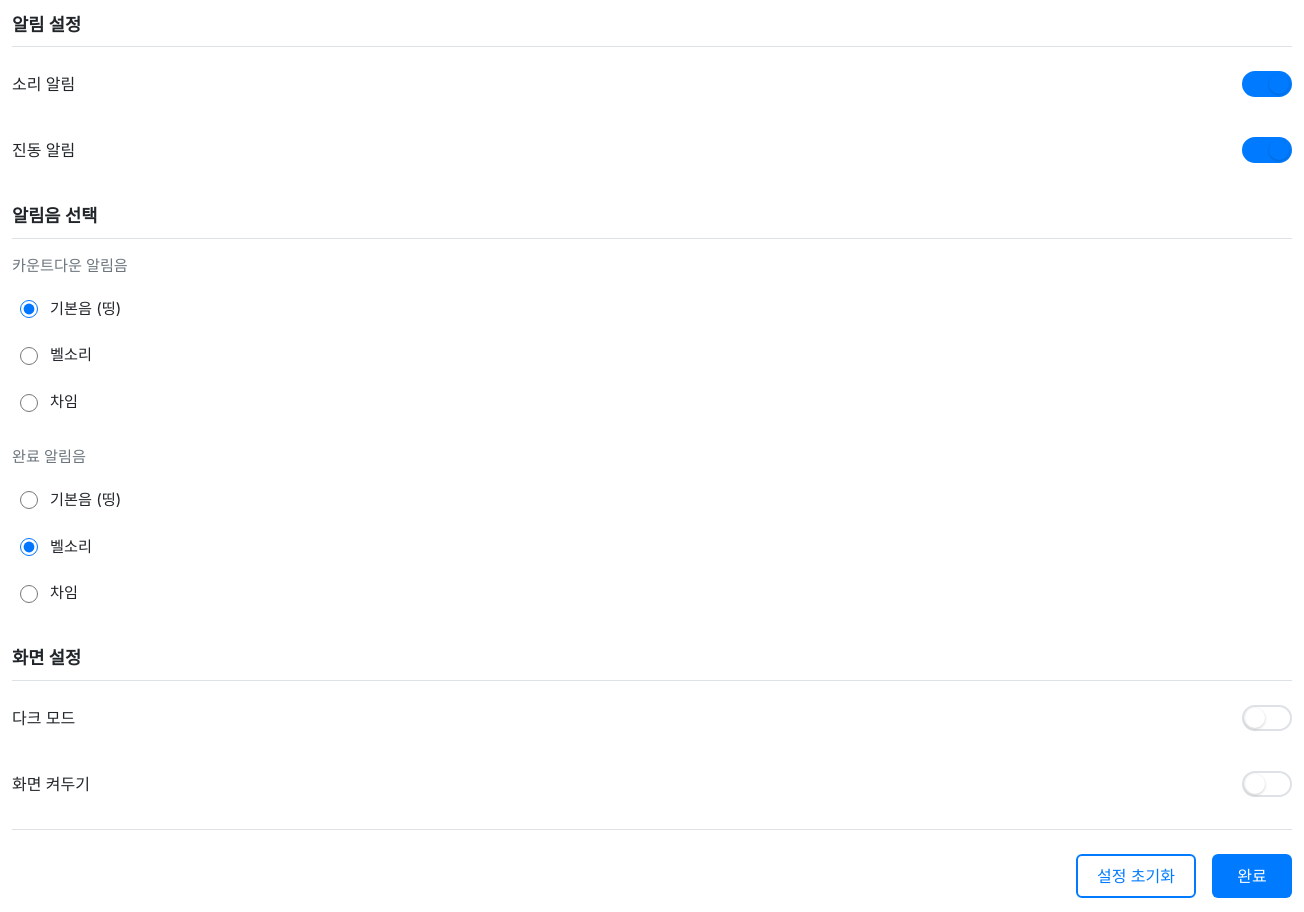
Scenario: Settings Component › toggles sound setting when clicked
The width and height of the screenshot is (1304, 912).
Click the switch named "소리 알림 끄기": click(1267, 84) [1242,71,1292,97]
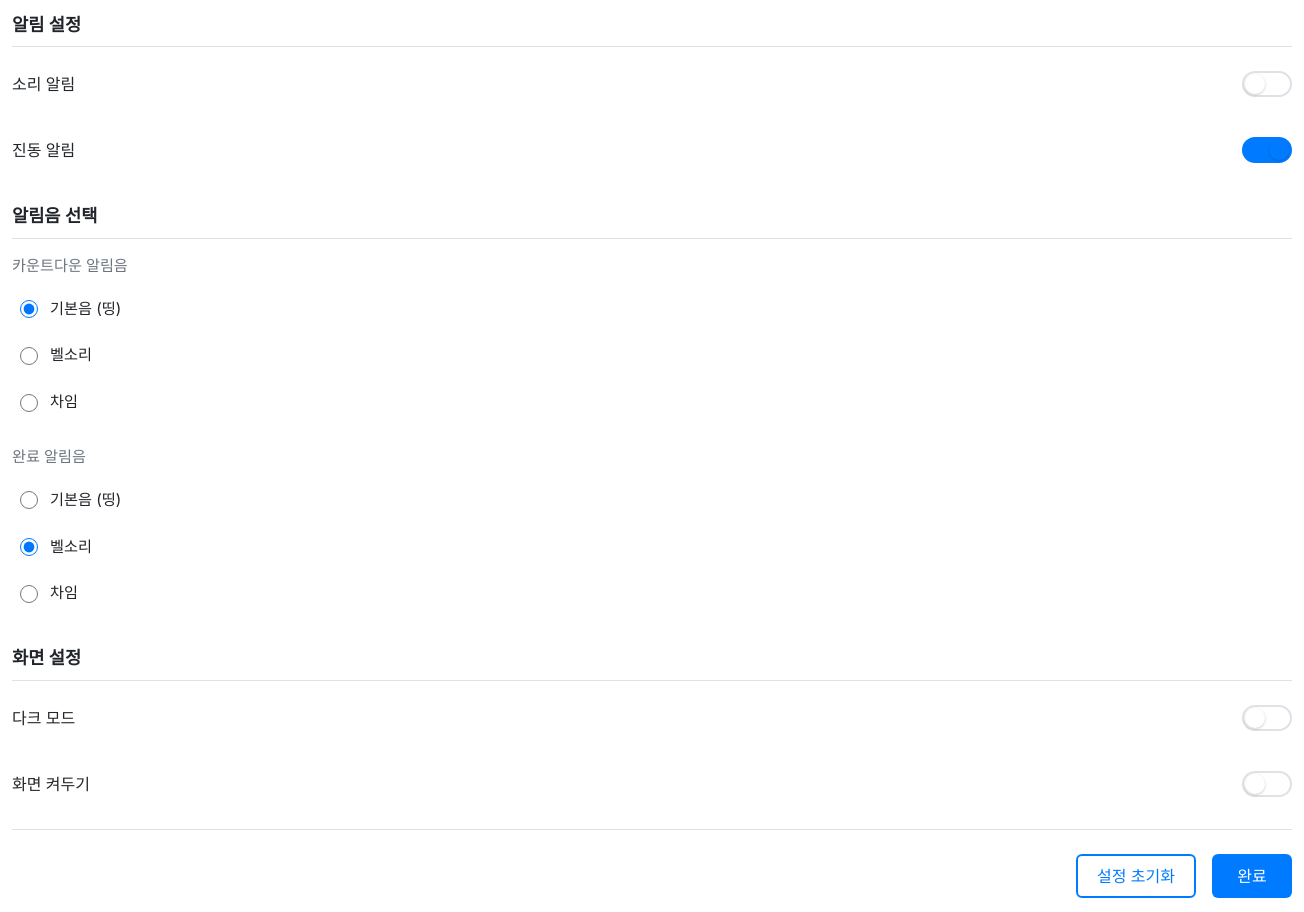
Expected: the switch named "소리 알림 켜기" is shown, [1242,71,1292,97]
